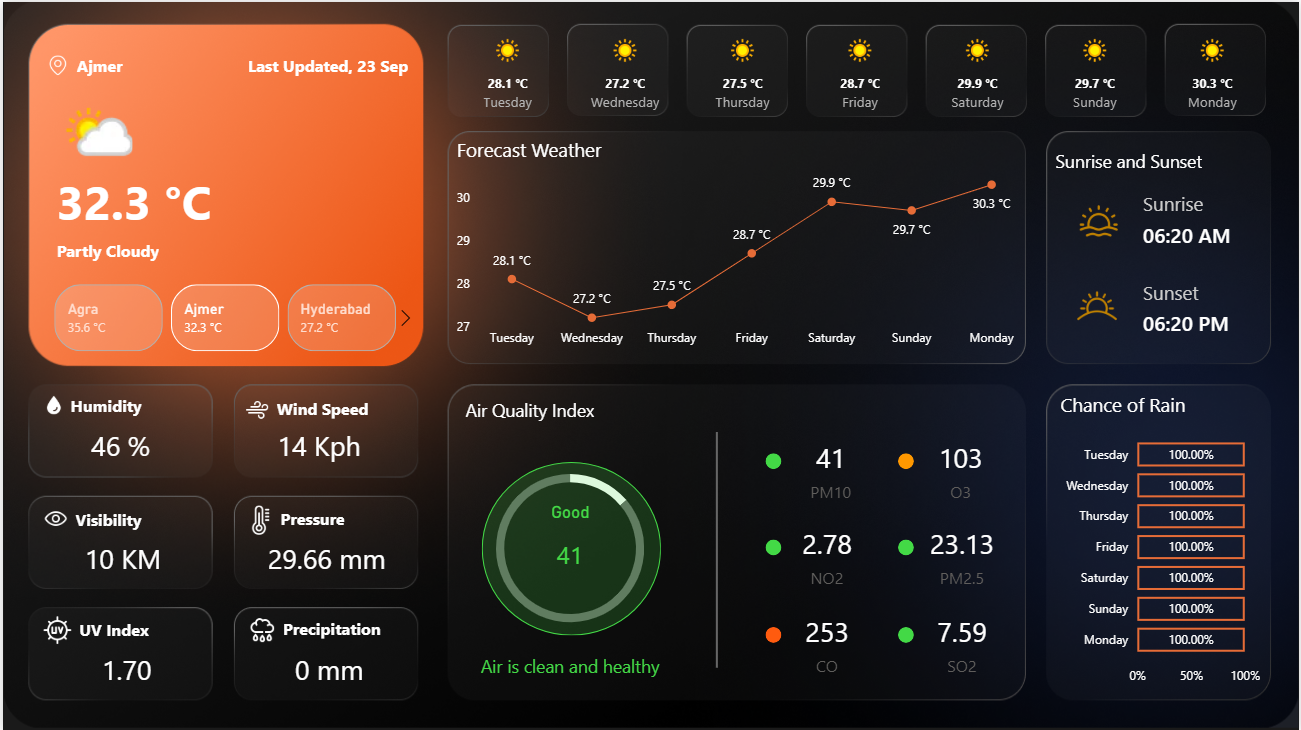

Layout of this report page (visuals, bound fields, positions):
{"tool":"powerbi","page":{"name":"Page 1","canvas":[1280,720],"ordinal":0},"visuals":[{"type":"donutChart","fields":{"Y":["Sum(Current.current.air_quality.pm10)","_Measures.LeftValue_PM10"]},"box":[448.6,442.9,224.3,192.9],"z":0},{"type":"shape","box":[472.9,454.3,177.1,171.4],"z":1000},{"type":"advancedSlicerVisual","fields":{"Values":["Locations.location.name"]},"box":[26,274,387.7,76.7],"z":2000},{"type":"shape","box":[53.4,161.6,180.8,68.5],"z":3000},{"type":"shape","box":[53.4,227.4,264.4,35.6],"z":4000},{"type":"shape","box":[72.6,43.8,161.6,35.6],"z":5000},{"type":"shape","box":[234.2,43.8,165.8,35.6],"z":6000},{"type":"image","box":[35.6,47.9,37,28.8],"z":7000},{"type":"cardVisual","fields":{"Data":["Min(Current.current.condition.icon)"]},"box":[35.6,76.7,97.3,84.9],"z":8000},{"type":"image","box":[35.6,379.5,28.8,38.4],"z":9000},{"type":"shape","box":[67.1,380.8,131.5,35.6],"z":10000},{"type":"image","box":[234.2,386.3,32.9,32.9],"z":11000},{"type":"shape","box":[269.9,382.2,131.5,35.6],"z":12000},{"type":"image","box":[34.2,493.2,35.6,35.6],"z":13000},{"type":"shape","box":[71.2,493.2,131.5,35.6],"z":14000},{"type":"image","box":[34.2,601.4,38.4,38.4],"z":15000},{"type":"shape","box":[75.3,601.4,131.5,35.6],"z":16000},{"type":"image","box":[234.2,493.2,39.7,38.4],"z":17000},{"type":"shape","box":[274,491.8,131.5,35.6],"z":18000},{"type":"image","box":[234.2,601.4,42.5,38.4],"z":19000},{"type":"shape","box":[276.7,600,131.5,35.6],"z":20000},{"type":"card","fields":{"Values":["_Measures.Humidity"]},"box":[52.1,416.4,128.8,46.6],"z":21000},{"type":"card","fields":{"Values":["_Measures.Wind_Speed"]},"box":[247.9,416.4,128.8,46.6],"z":22000},{"type":"card","fields":{"Values":["_Measures.Pressure"]},"box":[256.2,527.4,128.8,46.6],"z":23000},{"type":"card","fields":{"Values":["_Measures.Precipitation"]},"box":[257.5,637,128.8,46.6],"z":24000},{"type":"card","fields":{"Values":["Sum(Current.current.uv)"]},"box":[57.5,637,128.8,46.6],"z":25000},{"type":"card","fields":{"Values":["_Measures.Visibility"]},"box":[54.8,527.4,128.8,46.6],"z":26000},{"type":"advancedSlicerVisual","fields":{"Values":["Forecast_Day.Day_Name"]},"box":[439.7,20.5,817.8,98.6],"z":27000},{"type":"lineChart","title":"Forecast Weather","fields":{"Y":["Sum(Forecast_Day.forecast.forecastday.day.avgtemp_c)"],"Category":["Forecast_Day.Day_Name"]},"box":[442.9,132.9,570,217.1],"z":28000},{"type":"shape","box":[1040,140,170,35.7],"z":29000},{"type":"shape","box":[1125.7,205.7,131.4,47.1],"z":30000},{"type":"shape","box":[1125.7,292.9,131.4,47.1],"z":31000},{"type":"shape","box":[1125.7,175.7,131.4,47.1],"z":32000},{"type":"shape","box":[1125.7,262.9,131.4,47.1],"z":33000},{"type":"image","box":[1050,192.9,62.9,47.1],"z":34000},{"type":"image","box":[1048.6,268.6,64.3,61.4],"z":35000},{"type":"hundredPercentStackedBarChart","title":"Chance of Rain","fields":{"Y":["Sum(Forecast_Day.forecast.forecastday.day.daily_chance_of_rain)","Current.Left_Value_Rain"],"Category":["Forecast_Day.Day_Name"]},"box":[1040,385.7,207.1,298.6],"z":36000},{"type":"shape","box":[457.1,385.7,170,35.7],"z":37000},{"type":"card","fields":{"Values":["Sum(Current.current.air_quality.pm10)"]},"box":[782.9,424.3,70,74.3],"z":38000},{"type":"card","fields":{"Values":["Sum(Current.current.air_quality.o3)"]},"box":[911.4,424.3,70,74.3],"z":39000},{"type":"card","fields":{"Values":["Sum(Current.current.air_quality.pm2_5)"]},"box":[907.1,510,80,74.3],"z":40000},{"type":"card","fields":{"Values":["Sum(Current.current.air_quality.so2)"]},"box":[907.1,595.7,80,74.3],"z":41000},{"type":"card","fields":{"Values":["Sum(Current.current.air_quality.no2)"]},"box":[778.6,510,70,74.3],"z":42000},{"type":"card","fields":{"Values":["Sum(Current.current.air_quality.co)"]},"box":[778.6,595.7,70,74.3],"z":43000},{"type":"shape","box":[752.9,445.7,15.7,15.7],"z":44000},{"type":"shape","box":[752.9,531.4,15.7,15.7],"z":45000},{"type":"shape","box":[752.9,617.1,15.7,15.7],"z":46000},{"type":"shape","box":[884.3,445.7,15.7,15.7],"z":47000},{"type":"shape","box":[884.3,531.4,15.7,15.7],"z":48000},{"type":"shape","box":[884.3,617.1,15.7,15.7],"z":49000},{"type":"shape","box":[681.4,424.3,47.1,232.9],"z":50000},{"type":"card","fields":{"Values":["Sum(Current.current.air_quality.pm10)"]},"box":[507.1,494.3,105.7,87.1],"z":51000},{"type":"shape","box":[435.7,625.7,248.6,58.6],"z":51001}]}

Visuals, with their boxes in screenshot pixels (x1, y1, x2, y2), scaled from the page's 1280x720 canvas onto the 1301x730 screenshot:
donutChart - Sum(Current.current.air_quality.pm10) x _Measures.LeftValue_PM10: rect(456, 449, 684, 645)
shape: rect(481, 461, 661, 634)
advancedSlicerVisual - Locations.location.name: rect(26, 278, 420, 356)
shape: rect(54, 164, 238, 233)
shape: rect(54, 231, 323, 267)
shape: rect(74, 44, 238, 81)
shape: rect(238, 44, 407, 81)
image: rect(36, 49, 74, 78)
cardVisual - Min(Current.current.condition.icon): rect(36, 78, 135, 164)
image: rect(36, 385, 65, 424)
shape: rect(68, 386, 202, 422)
image: rect(238, 392, 271, 425)
shape: rect(274, 388, 408, 424)
image: rect(35, 500, 71, 536)
shape: rect(72, 500, 206, 536)
image: rect(35, 610, 74, 649)
shape: rect(77, 610, 210, 646)
image: rect(238, 500, 278, 539)
shape: rect(278, 499, 412, 535)
image: rect(238, 610, 281, 649)
shape: rect(281, 608, 415, 644)
card - _Measures.Humidity: rect(53, 422, 184, 469)
card - _Measures.Wind_Speed: rect(252, 422, 383, 469)
card - _Measures.Pressure: rect(260, 535, 391, 582)
card - _Measures.Precipitation: rect(262, 646, 393, 693)
card - Sum(Current.current.uv): rect(58, 646, 189, 693)
card - _Measures.Visibility: rect(56, 535, 187, 582)
advancedSlicerVisual - Forecast_Day.Day_Name: rect(447, 21, 1278, 121)
"Forecast Weather" lineChart: rect(450, 135, 1030, 355)
shape: rect(1057, 142, 1230, 178)
shape: rect(1144, 209, 1278, 256)
shape: rect(1144, 297, 1278, 345)
shape: rect(1144, 178, 1278, 226)
shape: rect(1144, 267, 1278, 314)
image: rect(1067, 196, 1131, 243)
image: rect(1066, 272, 1131, 335)
"Chance of Rain" hundredPercentStackedBarChart: rect(1057, 391, 1268, 694)
shape: rect(465, 391, 637, 427)
card - Sum(Current.current.air_quality.pm10): rect(796, 430, 867, 506)
card - Sum(Current.current.air_quality.o3): rect(926, 430, 998, 506)
card - Sum(Current.current.air_quality.pm2_5): rect(922, 517, 1003, 592)
card - Sum(Current.current.air_quality.so2): rect(922, 604, 1003, 679)
card - Sum(Current.current.air_quality.no2): rect(791, 517, 863, 592)
card - Sum(Current.current.air_quality.co): rect(791, 604, 863, 679)
shape: rect(765, 452, 781, 468)
shape: rect(765, 539, 781, 555)
shape: rect(765, 626, 781, 642)
shape: rect(899, 452, 915, 468)
shape: rect(899, 539, 915, 555)
shape: rect(899, 626, 915, 642)
shape: rect(693, 430, 740, 666)
card - Sum(Current.current.air_quality.pm10): rect(515, 501, 623, 589)
shape: rect(443, 634, 696, 694)
